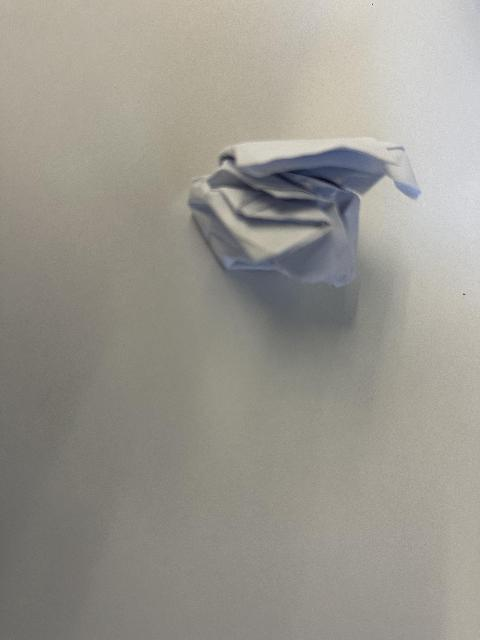Kagit: (187, 136, 424, 288)
